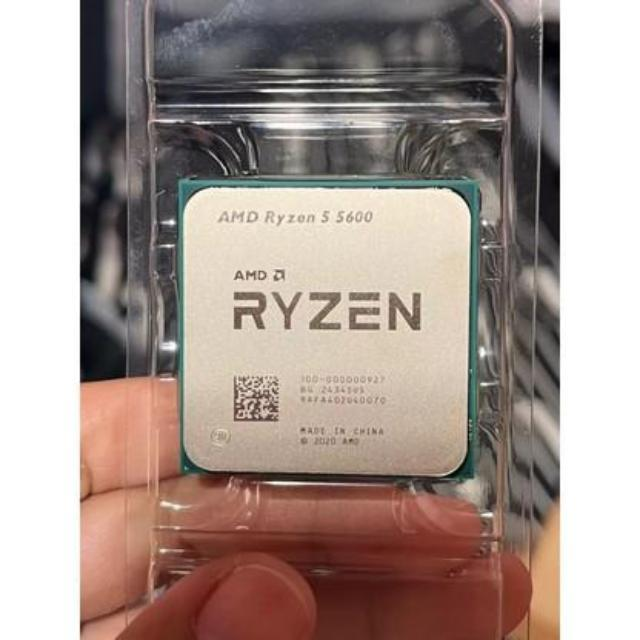CPU: (182, 184, 474, 476)
